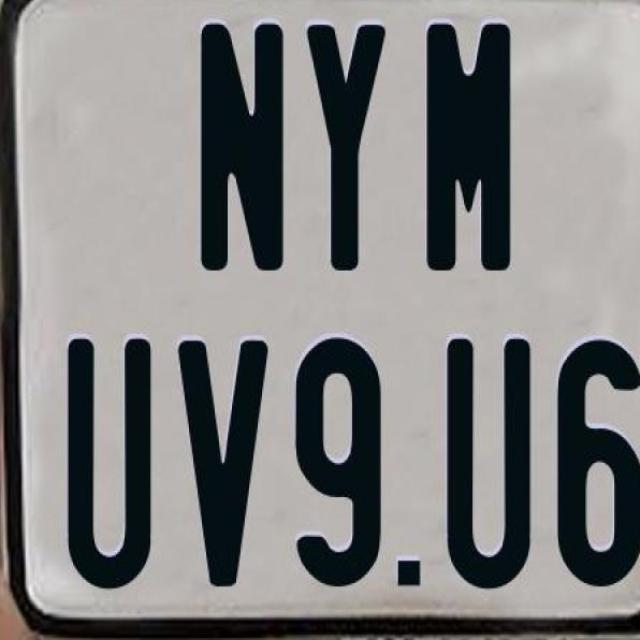license-plate: (8, 14, 640, 619)
